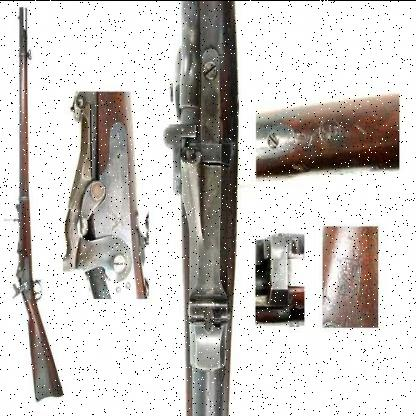rifle: (1, 0, 87, 407)
